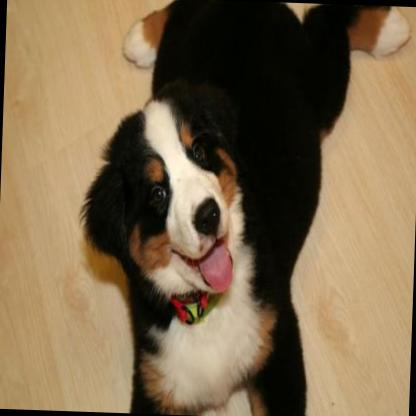Bernese_mountain_dog: (71, 0, 413, 416)
